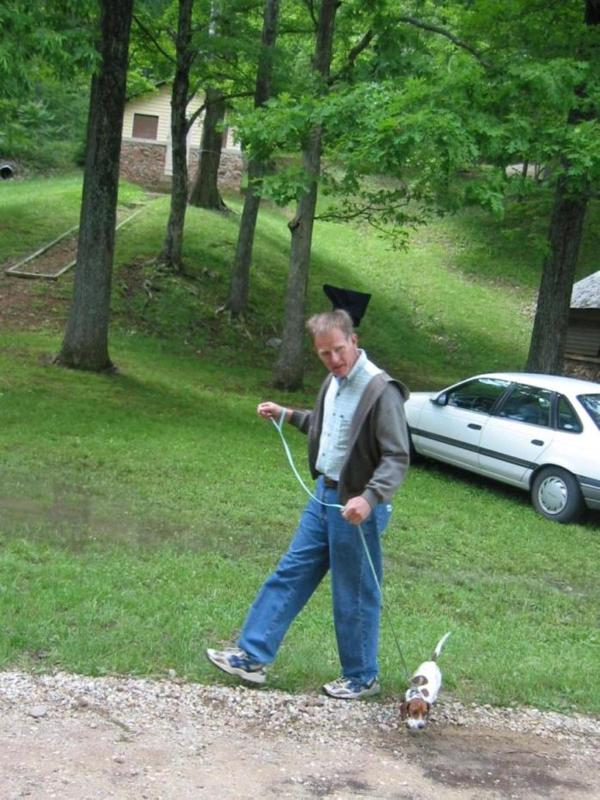person: (205, 313, 409, 694)
